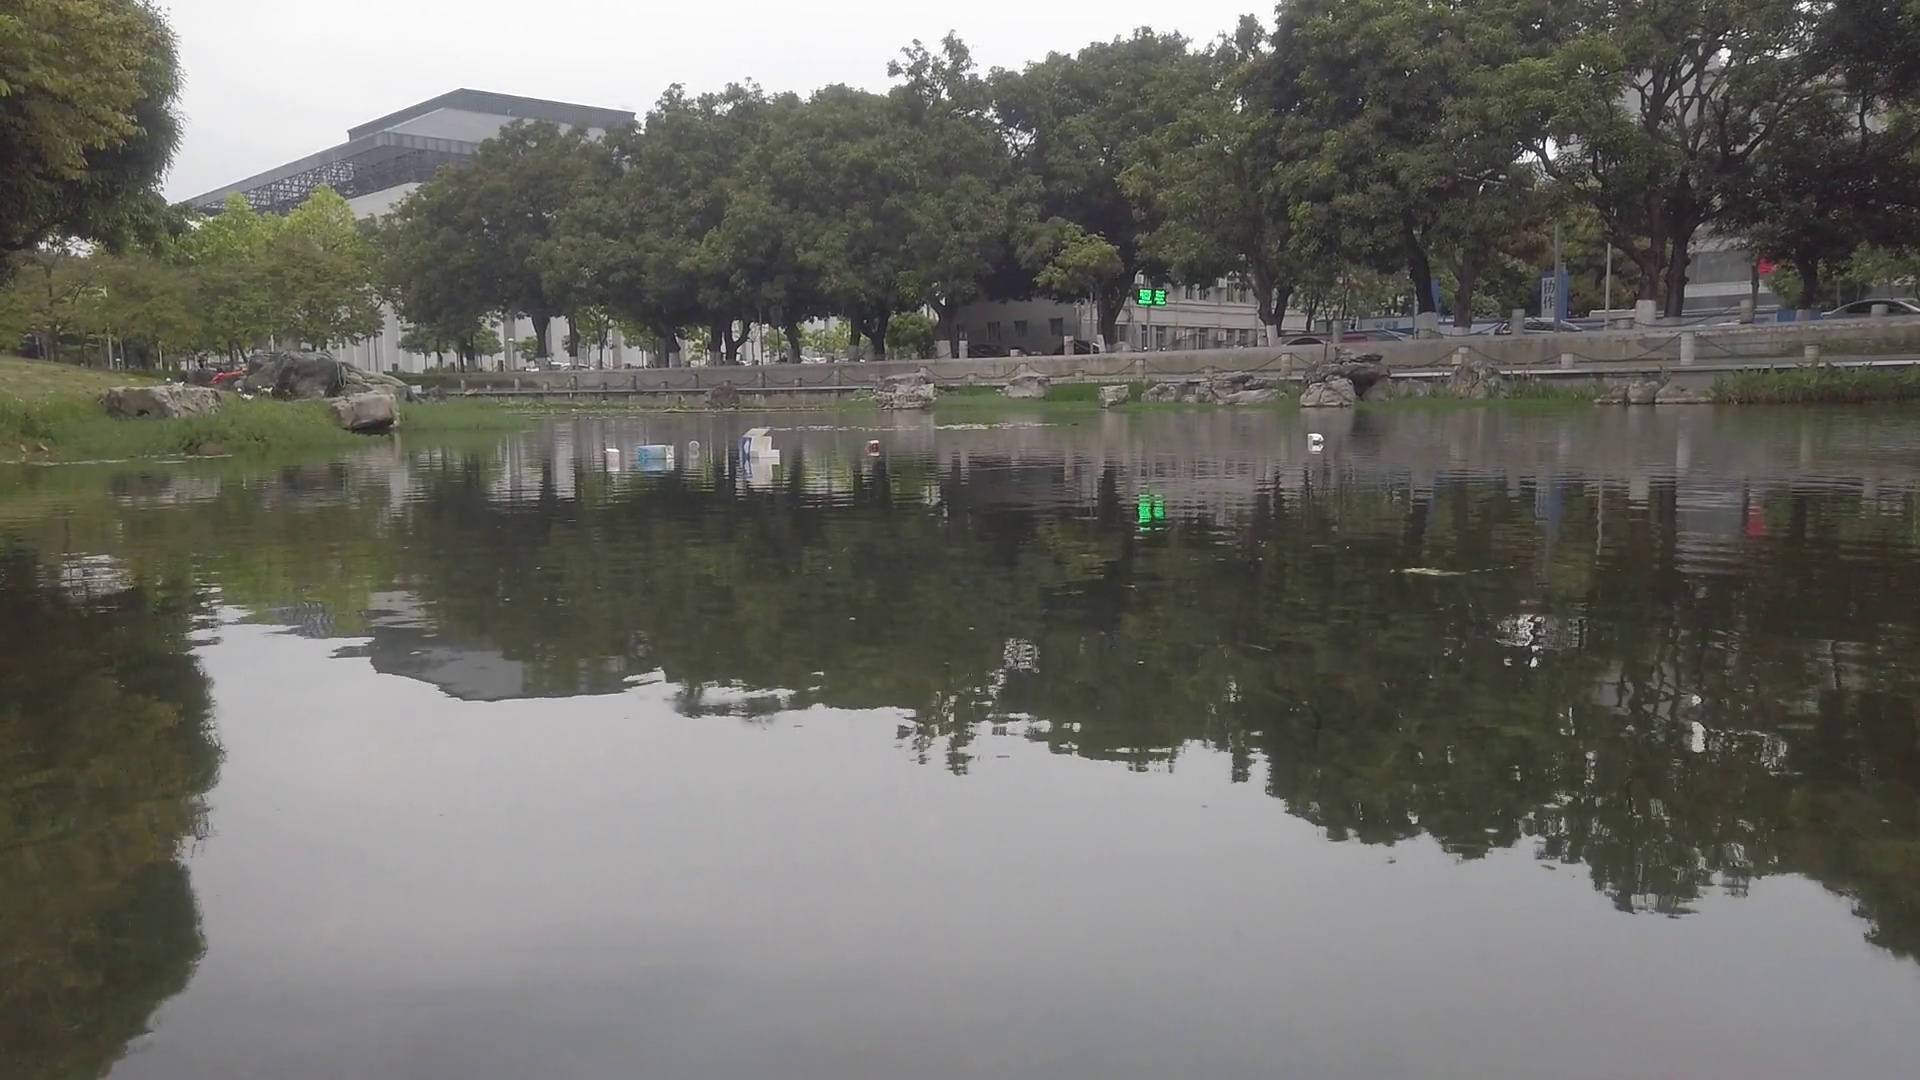bottle: (864, 438, 880, 456), (687, 440, 704, 454)
carton: (742, 426, 773, 465), (636, 440, 675, 463), (1307, 430, 1329, 454), (604, 446, 621, 462)
